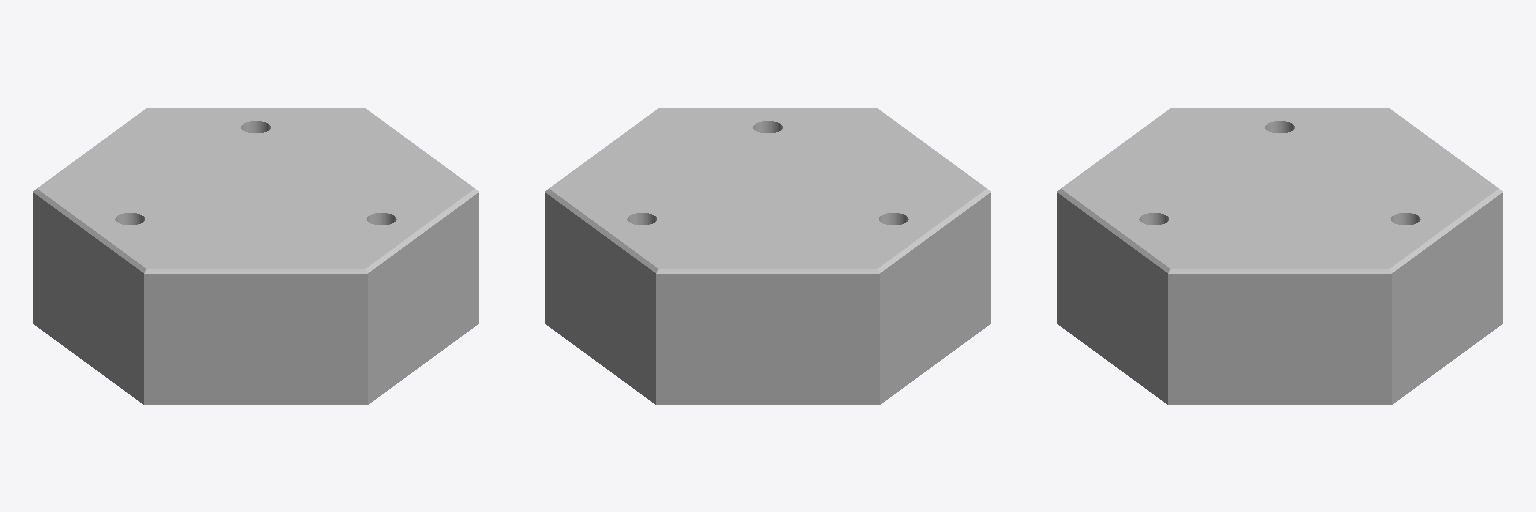
File: lvl1B.obj
The picture shows the model from 3 angles: view 1: azimuth 30°, elevation 25°; view 2: azimuth 150°, elevation 25°; view 3: azimuth 270°, elevation 25°; orthographic projection.
Visible parts, largest first — view 1: Lvl1B-3_(Mono-NoMags); view 2: Lvl1B-3_(Mono-NoMags); view 3: Lvl1B-3_(Mono-NoMags).
Boxes of the visible parts, x1,y1,x2,y2 form: Lvl1B-3_(Mono-NoMags): [33, 108, 478, 404]; Lvl1B-3_(Mono-NoMags): [545, 108, 990, 404]; Lvl1B-3_(Mono-NoMags): [1057, 108, 1502, 404].
Size of the model in its own units: 3.13 by 1.21 by 3.62.